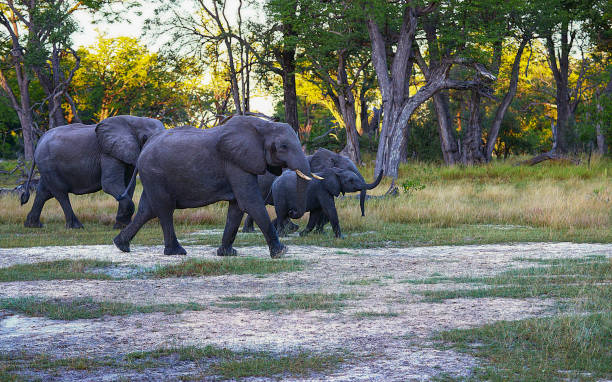africanelephant: (232, 114, 323, 192)
